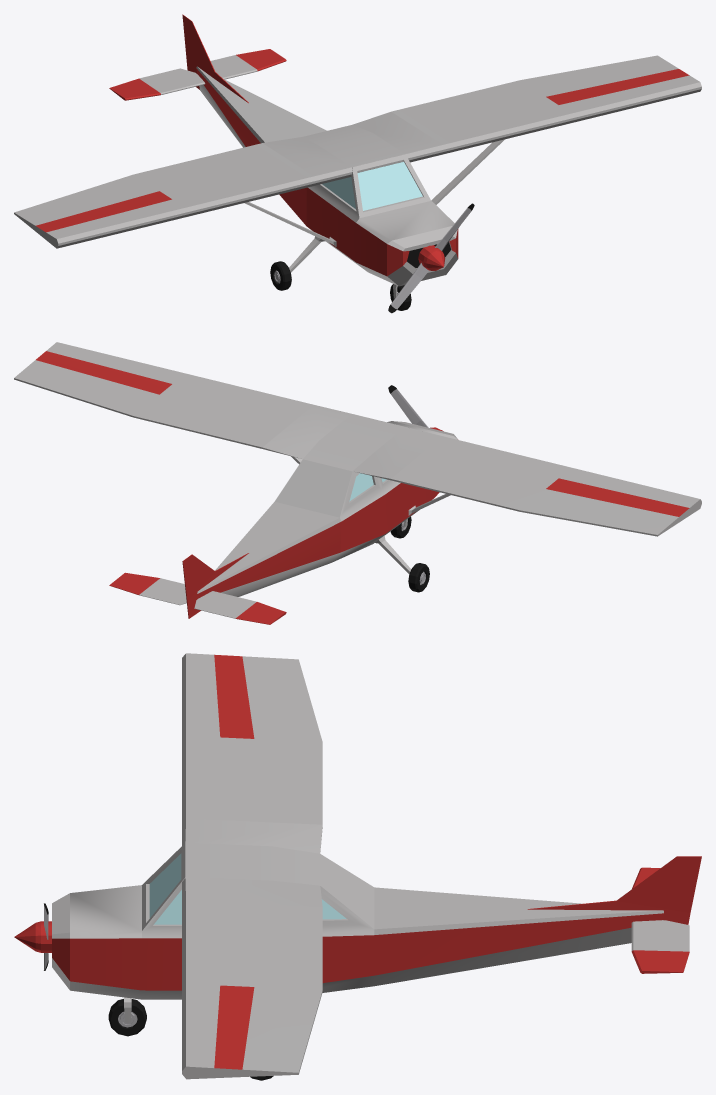
Rendered from cessna_152.fbx.
3 views of the same model, one above another, from view 1: azimuth 30°, elevation 25°; view 2: azimuth 150°, elevation 25°; view 3: azimuth 270°, elevation 25° (orthographic). The views are drawn at different scales.
Parts seen in each view (by area): view 1: Plane, Propel; view 2: Plane, Propel; view 3: Plane.
Boxes of the visible parts, <box> form: Plane: <box>14,14,701,310</box>; Propel: <box>388,203,474,313</box>; Plane: <box>14,342,701,624</box>; Propel: <box>388,385,428,427</box>; Plane: <box>14,653,701,1080</box>.
Size of the model in its own units: 1636 by 329 by 1151.
